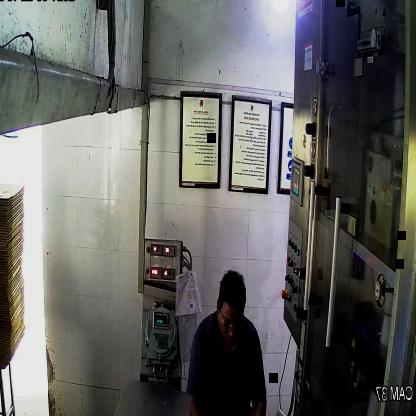goggles: (216, 312, 249, 340)
